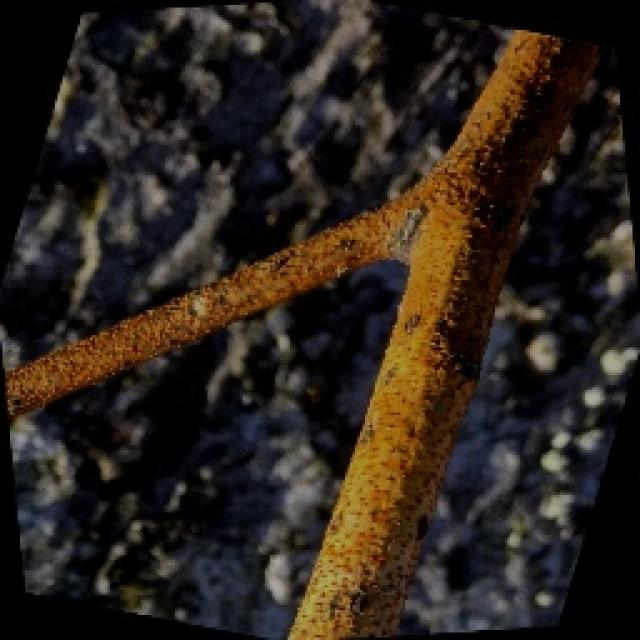Golden_canker: (5, 17, 602, 640)
